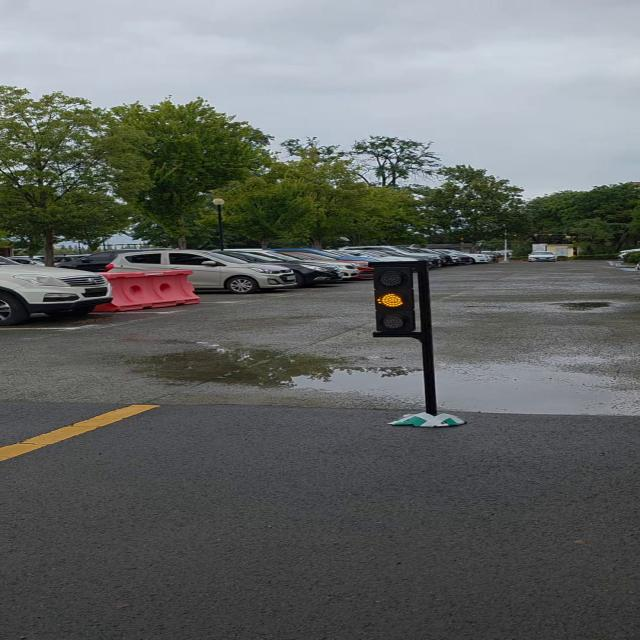yellow: (370, 260, 427, 339)
